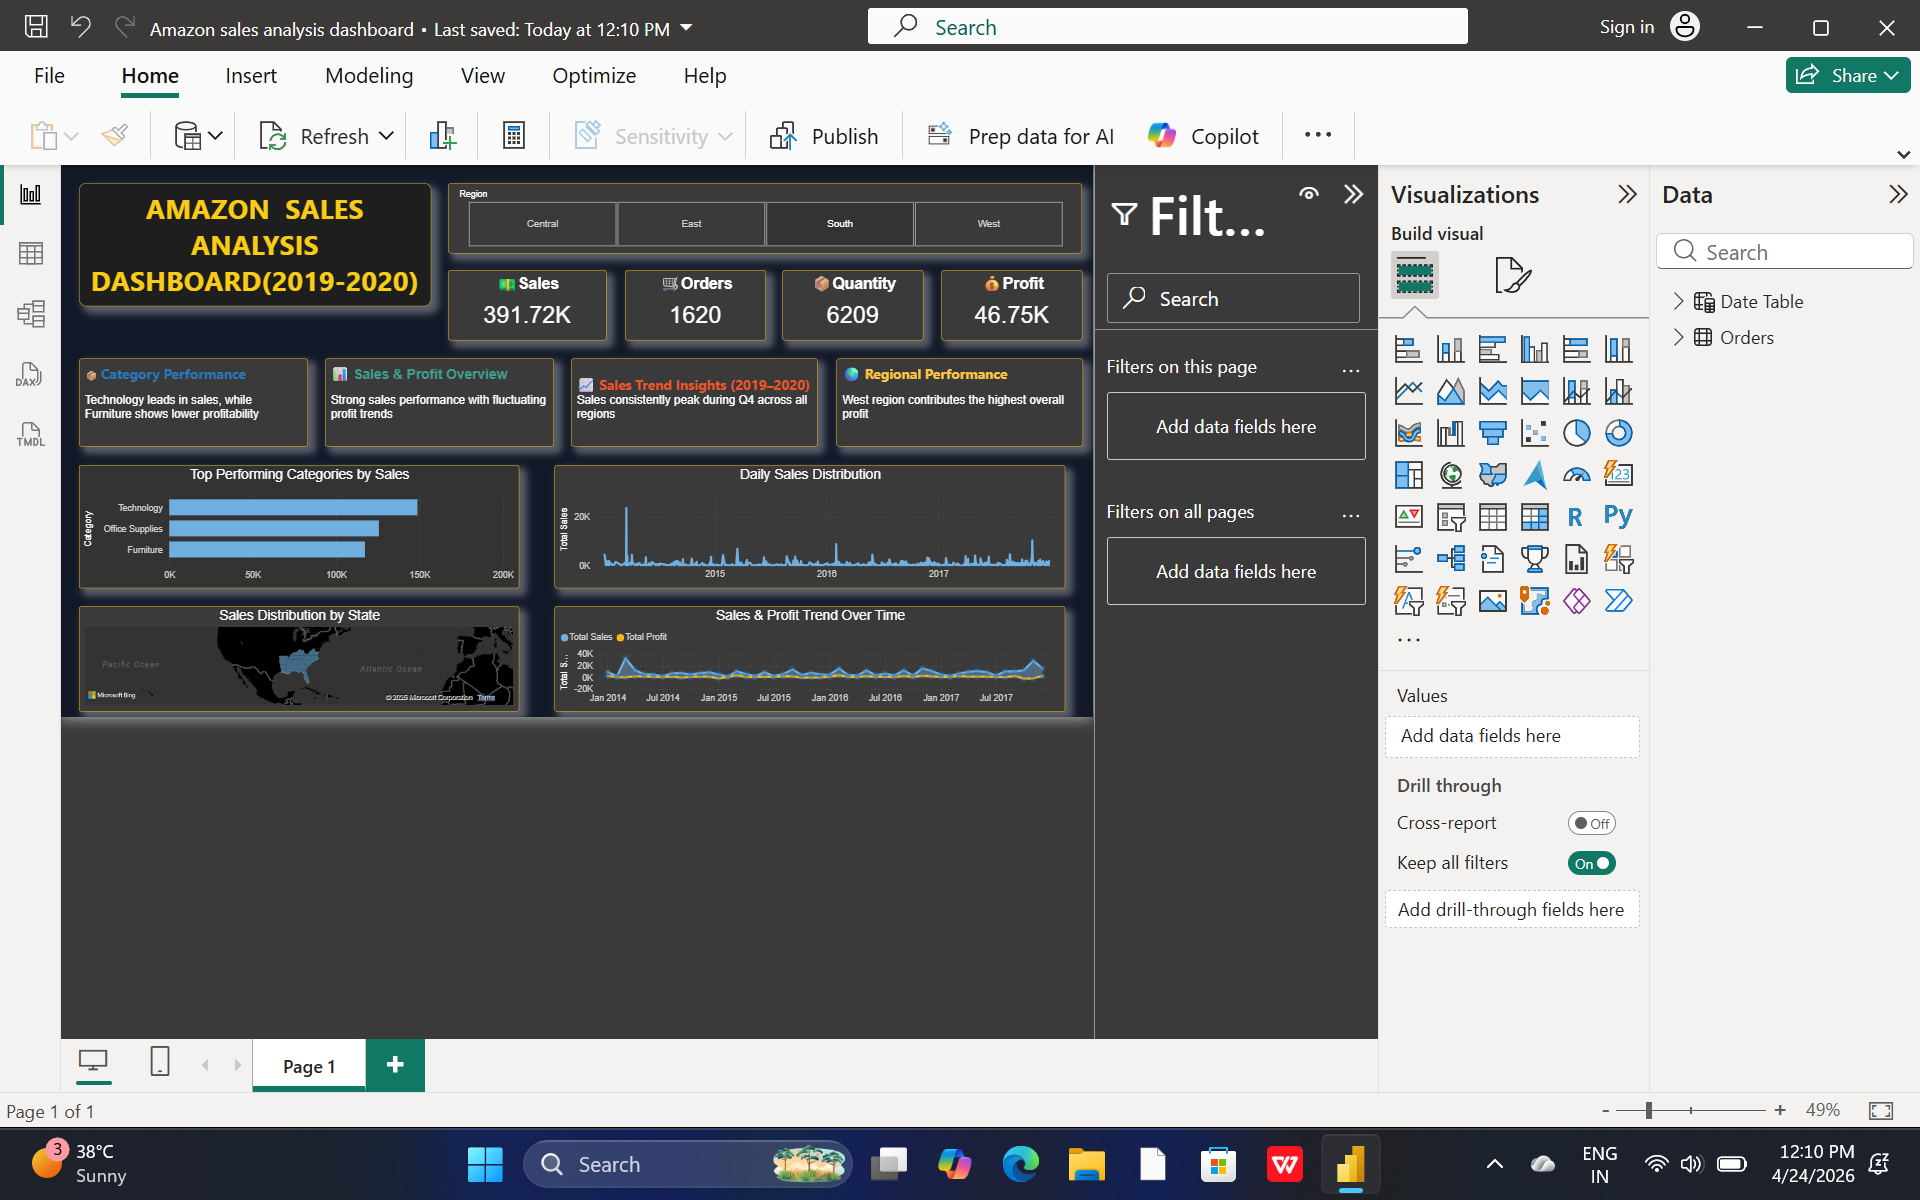

This screenshot's page, from the dashboard's own definition file:
{"tool":"powerbi","page":{"name":"Page 1","canvas":[1407,752],"ordinal":0},"visuals":[{"type":"card","title":"💵Sales","fields":{"Values":["Orders.Total Sales"]},"box":[528,144,216,96],"z":0},{"type":"card","title":"🛒Orders","fields":{"Values":["Orders.Total Orders"]},"box":[768,144,192,96],"z":1000},{"type":"card","fields":{"Values":["Orders.Total Profit"]},"box":[1416,24,216,120],"z":2000},{"type":"card","fields":{"Values":["Orders.Total Customers"]},"box":[1680,24,216,120],"z":3000},{"type":"lineChart","title":"Daily Sales Distribution","fields":{"Category":["Orders.Order Date.Variation.Date Hierarchy.Year"],"Y":["Orders.Total Sales"]},"box":[672,408,696,168],"z":4000},{"type":"clusteredBarChart","title":"Top Performing Categories by Sales","fields":{"Category":["Orders.Category"],"Y":["Orders.Total Sales"]},"box":[24,408,600,168],"z":5000},{"type":"filledMap","title":"Sales Distribution by State","fields":{"Category":["Orders.State"]},"box":[24,600,600,144],"z":6000},{"type":"lineChart","title":"Sales & Profit Trend Over Time","fields":{"Y":["Orders.Total Sales","Orders.Total Profit"],"Category":["Date Table.Date.Variation.Date Hierarchy.Year","Date Table.Date.Variation.Date Hierarchy.Month"]},"box":[672,600,696,144],"z":7000},{"type":"clusteredBarChart","fields":{"Category":["Orders.Sub-Category"],"Y":["Orders.Total Profit"]},"box":[1450,216,470,384],"z":8000},{"type":"lineChart","fields":{"Category":["Date Table.Month Name"],"Y":["Sum(Date Table.Year)","Orders.Total Sales"]},"box":[1450,648,470,408],"z":9000},{"type":"textbox","box":[24,24,480,168],"z":10000},{"type":"slicer","fields":{"Values":["Orders.Region"]},"box":[528,24,864,96],"z":11000},{"type":"card","title":"📦Quantity","fields":{"Values":["Sum(Orders.Quantity)"]},"box":[984,144,192,96],"z":12000},{"type":"card","title":"💰Profit","fields":{"Values":["Sum(Orders.Profit)"]},"box":[1200,144,192,96],"z":13000},{"type":"textbox","box":[360,264,312,120],"z":14000},{"type":"textbox","box":[1056,264,336,120],"z":15000},{"type":"textbox","box":[24,264,312,120],"z":16000},{"type":"textbox","box":[696,264,336,120],"z":17000}]}

Visuals, with their boxes on the page's 1407x752 design canvas (x1, y1, x2, y2). These are canvas units, not pixel positions in the 1920x1200 screenshot, which may show the page scaled, cropped or inside an application window:
"💵Sales" card: 528/144/744/240
"🛒Orders" card: 768/144/960/240
card - Orders.Total Profit: 1416/24/1632/144
card - Orders.Total Customers: 1680/24/1896/144
"Daily Sales Distribution" lineChart: 672/408/1368/576
"Top Performing Categories by Sales" clusteredBarChart: 24/408/624/576
"Sales Distribution by State" filledMap: 24/600/624/744
"Sales & Profit Trend Over Time" lineChart: 672/600/1368/744
clusteredBarChart - Orders.Sub-Category x Orders.Total Profit: 1450/216/1920/600
lineChart - Date Table.Month Name x Sum(Date Table.Year): 1450/648/1920/1056
textbox: 24/24/504/192
slicer - Orders.Region: 528/24/1392/120
"📦Quantity" card: 984/144/1176/240
"💰Profit" card: 1200/144/1392/240
textbox: 360/264/672/384
textbox: 1056/264/1392/384
textbox: 24/264/336/384
textbox: 696/264/1032/384
